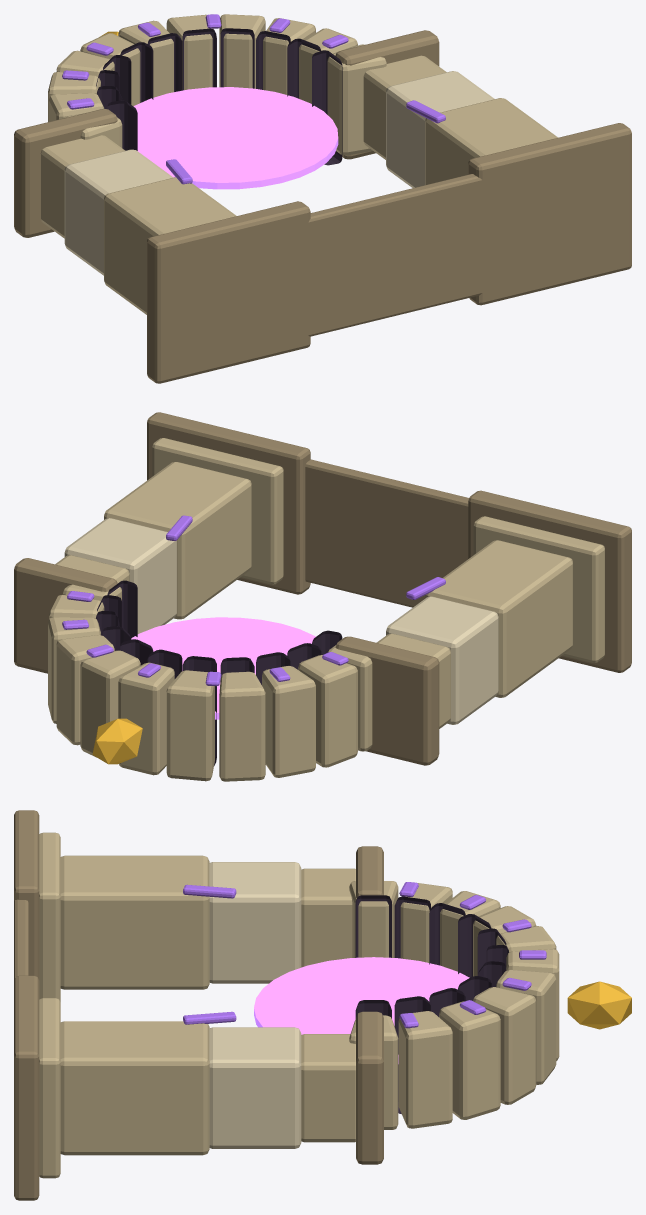
File: bl_portal.gltf
The picture shows the model from 3 angles, top to bottom: view 1: azimuth 30°, elevation 25°; view 2: azimuth 150°, elevation 25°; view 3: azimuth 270°, elevation 25°; orthographic projection. The views are drawn at different scales.
Visible parts, largest first — view 1: bl_portal; view 2: bl_portal; view 3: bl_portal.
Part boxes in pixels (<box>): bl_portal: <box>14,14,631,383</box>; bl_portal: <box>14,412,631,781</box>; bl_portal: <box>14,810,631,1200</box>.
Size of the model in its own units: 4.6 by 1.3 by 4.9.
